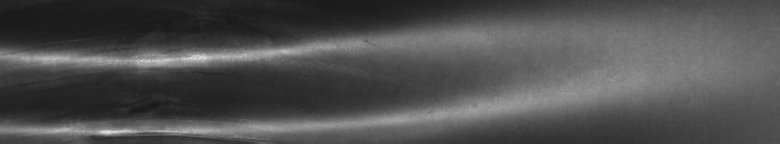ke: (4, 4, 536, 136)
